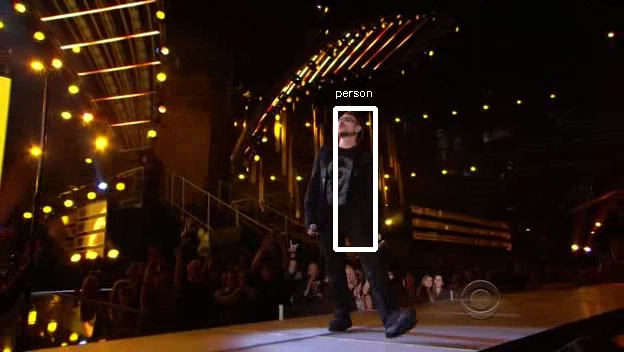person: (308, 113, 378, 229), (305, 113, 375, 229), (311, 113, 381, 229), (308, 110, 378, 226), (308, 116, 378, 232)
target_negative: (480, 135, 560, 333), (208, 251, 591, 279), (467, 56, 607, 129), (380, 140, 428, 337), (449, 303, 608, 341), (422, 166, 611, 197)
